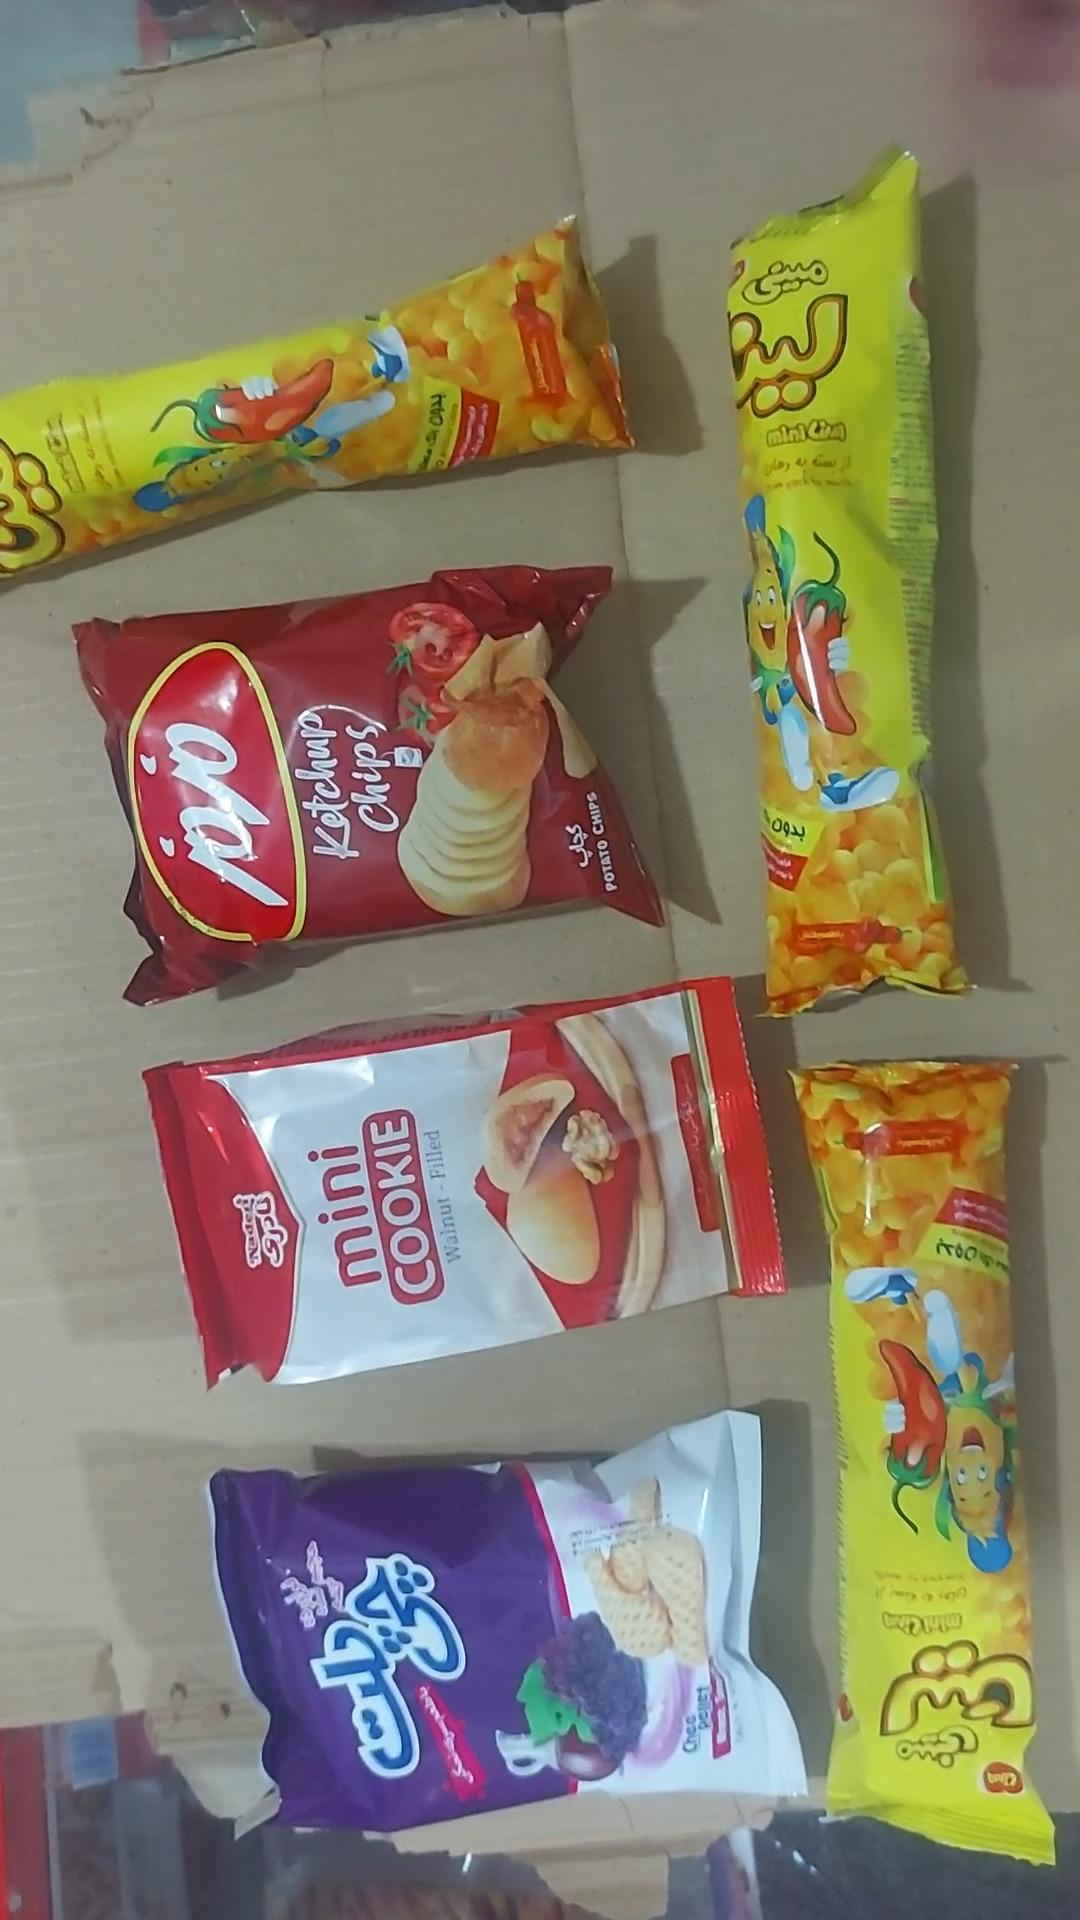Chee pellet vinegar: (208, 1411, 810, 1836)
Maz Maz ketchup chips: (71, 564, 665, 1007)
Mini Lina: (0, 218, 636, 580), (789, 1062, 1056, 1869), (723, 152, 967, 1026)
Naderi mini cookie: (141, 977, 789, 1394)
